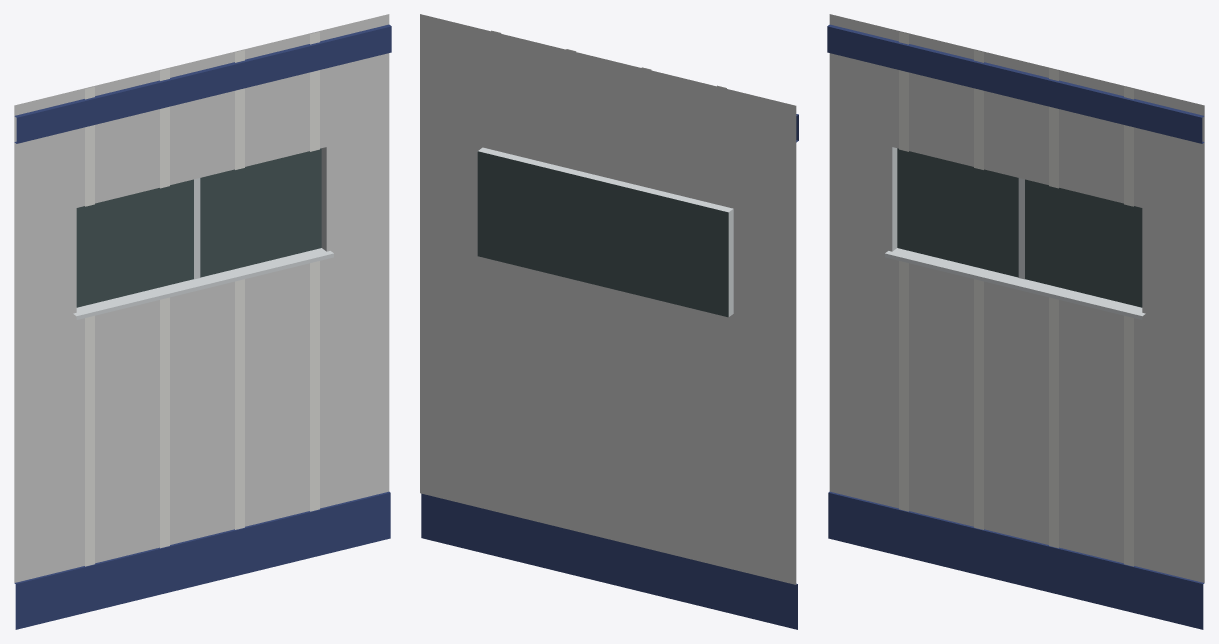
The picture shows the model from 3 angles, left to right: view 1: azimuth 30°, elevation 25°; view 2: azimuth 150°, elevation 25°; view 3: azimuth 330°, elevation 25°; orthographic projection.
Parts seen in each view (by area): view 1: a2004/700/base-w1; view 2: a2004/700/base-w1; view 3: a2004/700/base-w1.
Part boxes in pixels (x1,y1,x2,y2): a2004/700/base-w1: [14, 14, 391, 629]; a2004/700/base-w1: [420, 14, 798, 629]; a2004/700/base-w1: [827, 14, 1204, 629].
Size of the model in its own units: 3 by 4 by 0.12.
